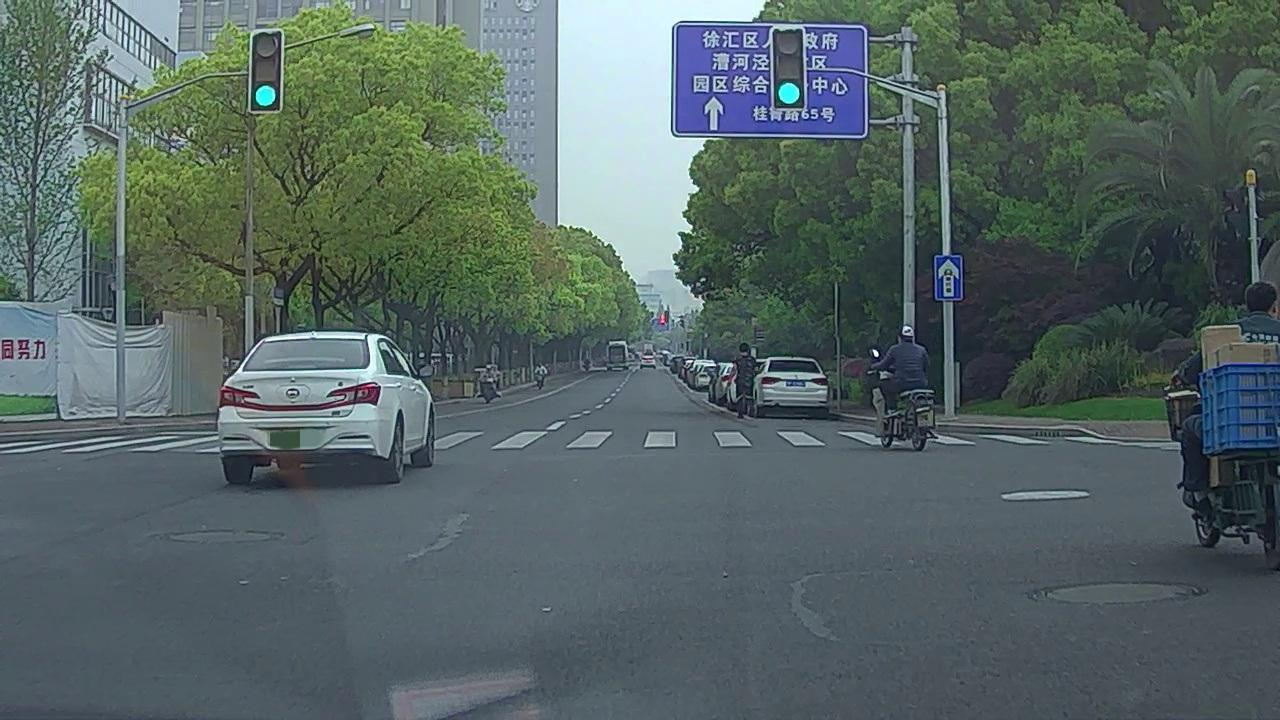traffic_light: (776, 31, 808, 111), (253, 30, 283, 111)
